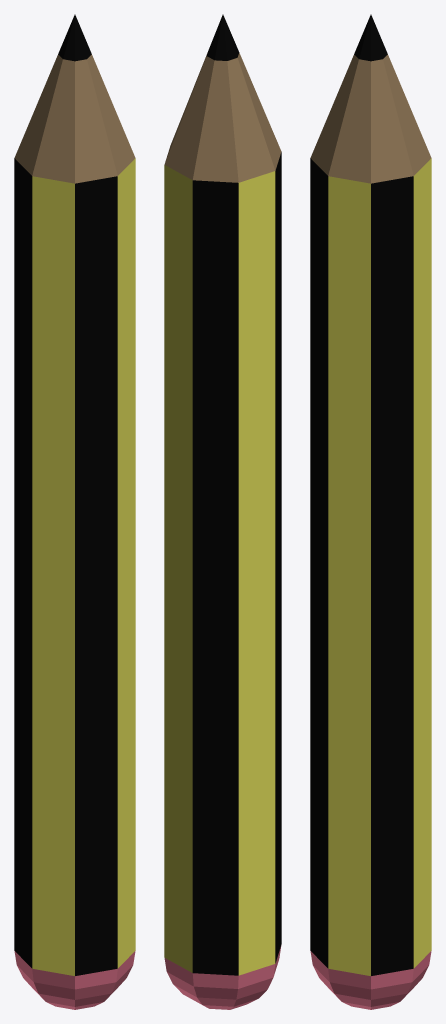
Rendered from Lapiz.fbx.
3 views of the same model, side by side, from view 1: azimuth 90°, elevation 25°; view 2: azimuth 150°, elevation 25°; view 3: azimuth 270°, elevation 25° (orthographic).
Visible parts, largest first — view 1: Cylinder; view 2: Cylinder; view 3: Cylinder.
Boxes of the visible parts, box(x1,y1,x2,y2) form: Cylinder: box(14, 14, 135, 1009); Cylinder: box(164, 14, 281, 1009); Cylinder: box(310, 14, 431, 1009).
Bounding box in the file's own units: 200 × 1807 × 200.
